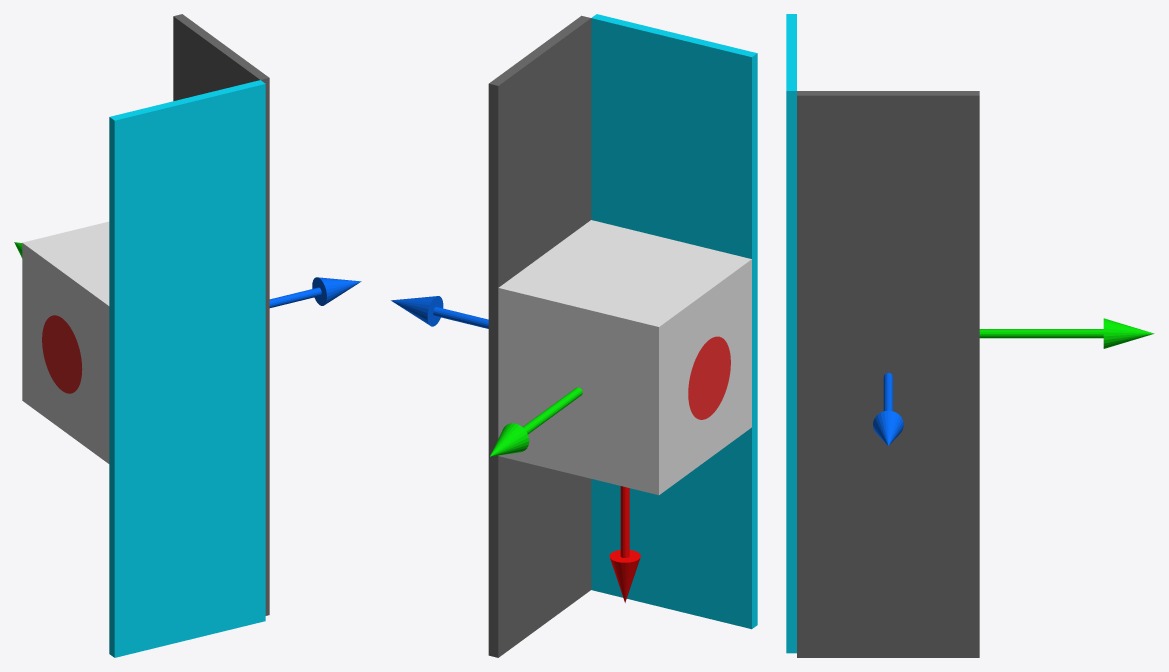
The picture shows the model from 3 angles, left to right: view 1: azimuth 30°, elevation 25°; view 2: azimuth 150°, elevation 25°; view 3: azimuth 270°, elevation 25°; orthographic projection. The views are drawn at different scales.
Parts seen in each view (by area): view 1: SAR_array_gray_plate_normal_minus_Y_Z_dimension_equals_cube_, cube_body, solar_panel_blue_plate_normal_plus_Z_Y_dimension_equals_cube, red_circle_thruster_minus_Z, body_axis_plus_Z_blue; view 2: SAR_array_gray_plate_normal_minus_Y_Z_dimension_equals_cube_, cube_body, solar_panel_blue_plate_normal_plus_Z_Y_dimension_equals_cube, red_circle_thruster_minus_Z, body_axis_plus_X_red, body_axis_plus_Y_green, body_axis_plus_Z_blue; view 3: solar_panel_blue_plate_normal_plus_Z_Y_dimension_equals_cube, SAR_array_gray_plate_normal_minus_Y_Z_dimension_equals_cube_, body_axis_plus_Y_green, body_axis_plus_Z_blue.
Part boxes in pixels (x1,y1,x2,y2): SAR_array_gray_plate_normal_minus_Y_Z_dimension_equals_cube_: (109, 80, 265, 657); cube_body: (22, 221, 109, 463); solar_panel_blue_plate_normal_plus_Z_Y_dimension_equals_cube: (173, 14, 269, 615); red_circle_thruster_minus_Z: (42, 315, 82, 393); body_axis_plus_Z_blue: (269, 277, 361, 307); SAR_array_gray_plate_normal_minus_Y_Z_dimension_equals_cube_: (591, 14, 757, 629); cube_body: (498, 220, 751, 495); solar_panel_blue_plate_normal_plus_Z_Y_dimension_equals_cube: (488, 15, 591, 657); red_circle_thruster_minus_Z: (688, 336, 730, 419); body_axis_plus_X_red: (609, 486, 640, 602); body_axis_plus_Y_green: (490, 387, 582, 456); body_axis_plus_Z_blue: (391, 296, 488, 328); solar_panel_blue_plate_normal_plus_Z_Y_dimension_equals_cube: (797, 91, 979, 657); SAR_array_gray_plate_normal_minus_Y_Z_dimension_equals_cube_: (786, 14, 796, 653); body_axis_plus_Y_green: (979, 318, 1154, 348); body_axis_plus_Z_blue: (873, 372, 903, 445).
Bounding box in the file's own units: 1.99 × 3.4 × 2.02.
